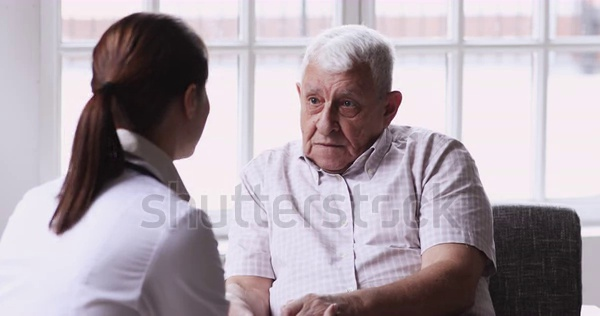No Mask: (286, 35, 394, 179)
